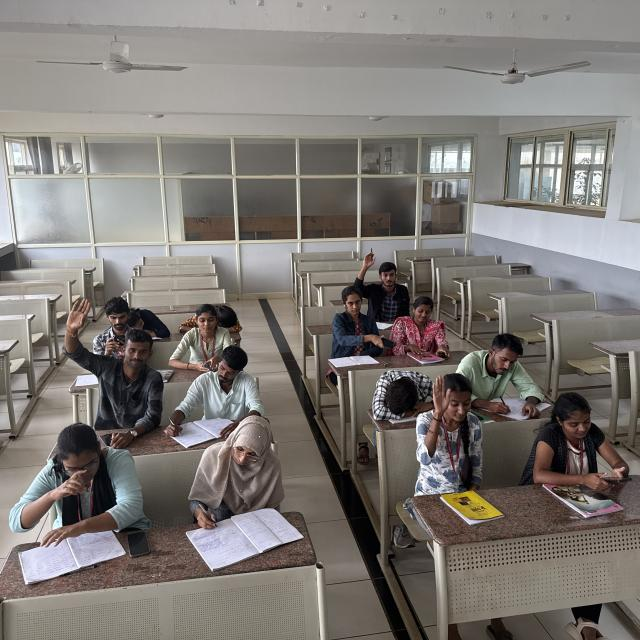Hand Rising: (54, 288, 164, 424), (417, 369, 485, 473), (356, 251, 410, 320)
Sleeping: (368, 364, 440, 420), (179, 298, 246, 338), (122, 290, 174, 339)
Using Phone: (527, 388, 633, 488), (326, 283, 398, 356), (393, 294, 454, 364)
Writing: (175, 402, 306, 552), (168, 342, 264, 437), (465, 331, 557, 423)
